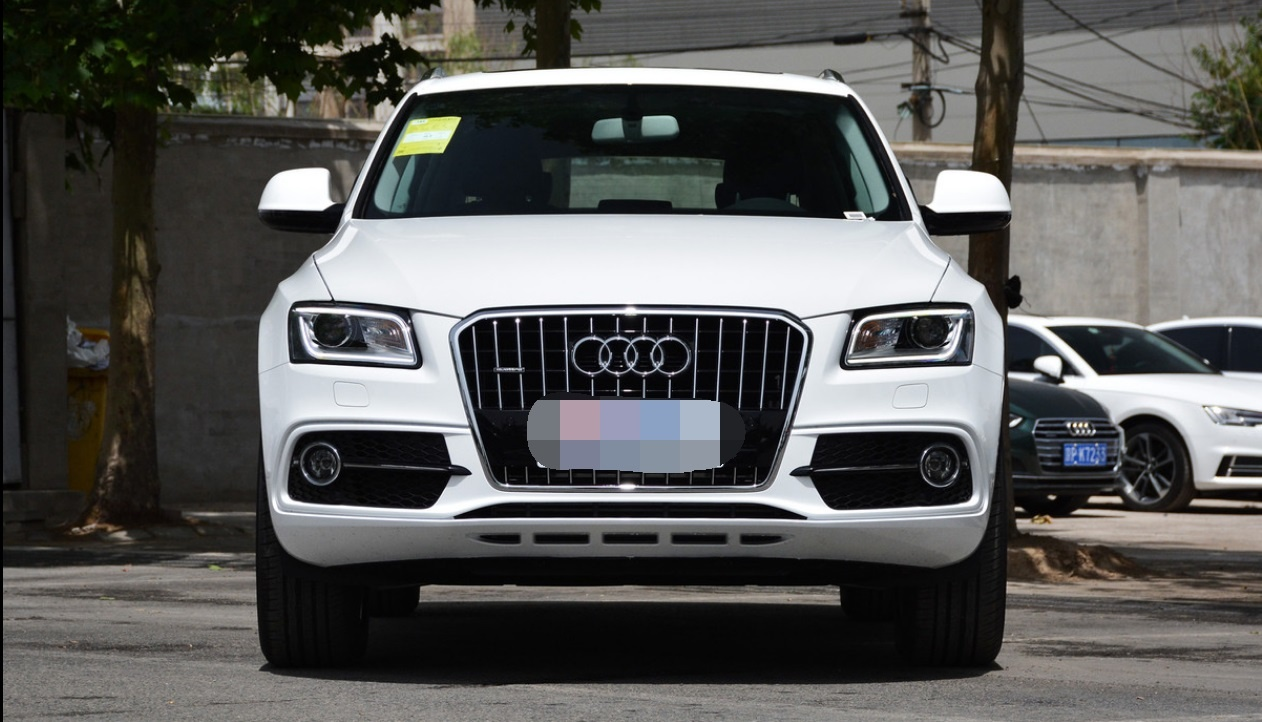SUV: (249, 48, 1029, 673)
